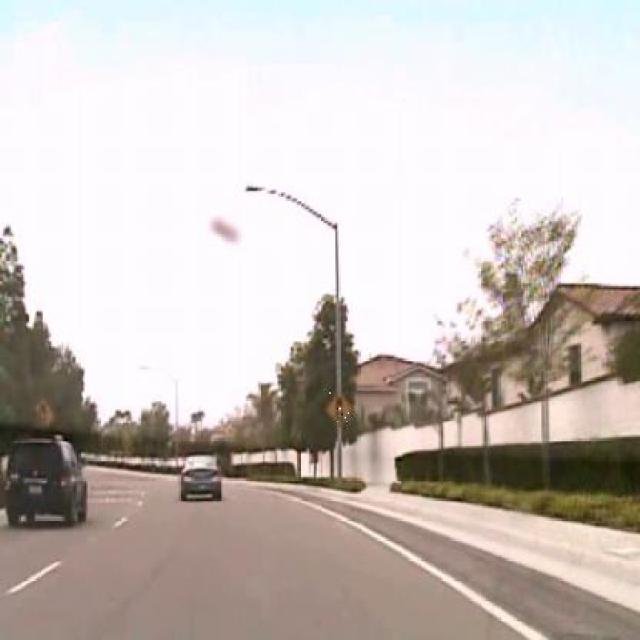signalAhead: (326, 389, 352, 427)
